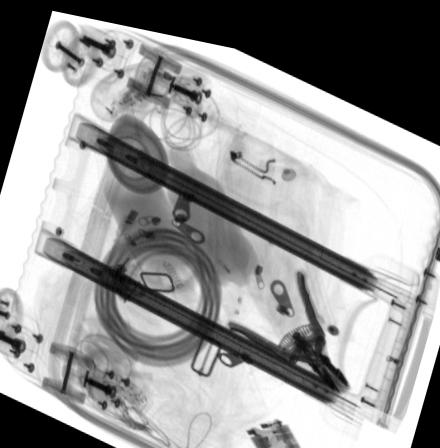Pliers: (224, 260, 352, 381)
